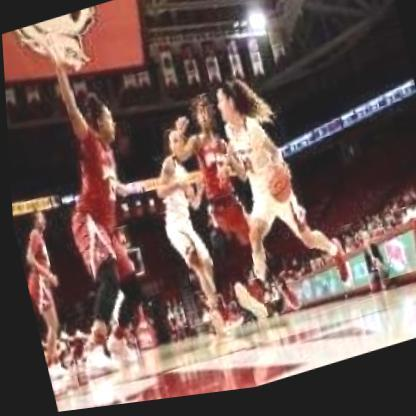basketball: (256, 164, 294, 211)
